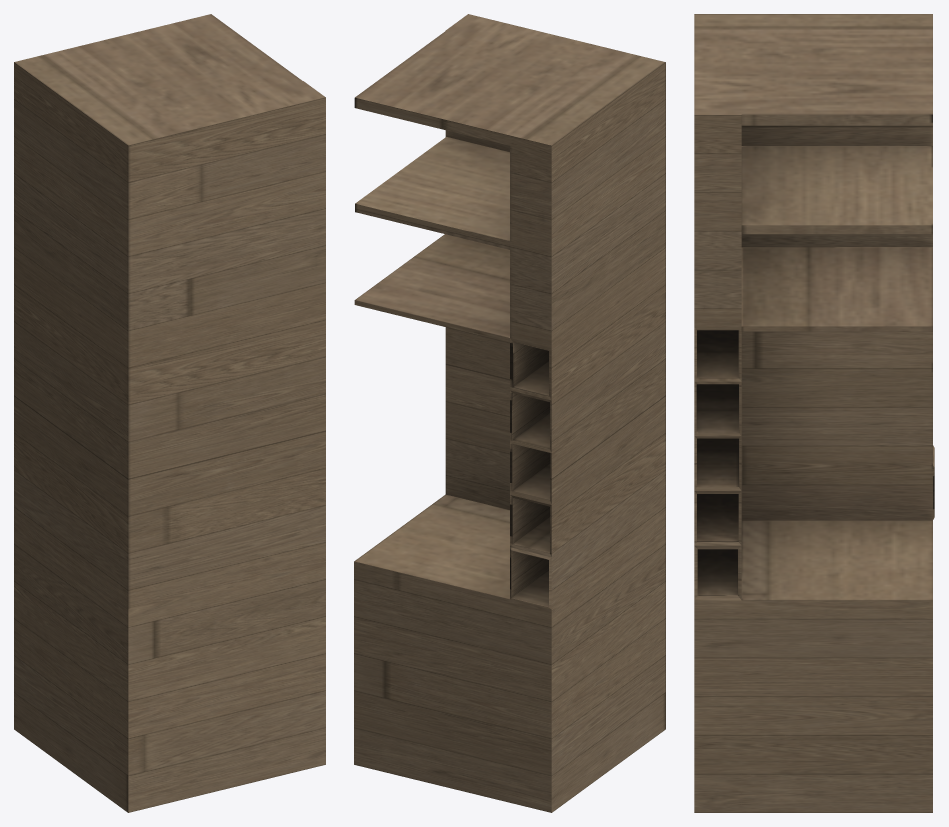
File: MuebleVino.fbx
The picture shows the model from 3 angles, left to right: view 1: azimuth 30°, elevation 25°; view 2: azimuth 150°, elevation 25°; view 3: azimuth 270°, elevation 25°; orthographic projection. The views are drawn at different scales.
Visible parts, largest first — view 1: RepisaVino; view 2: RepisaVino; view 3: RepisaVino.
Boxes of the visible parts, box(x1,y1,x2,y2) form: RepisaVino: box(14, 14, 325, 812); RepisaVino: box(354, 14, 665, 812); RepisaVino: box(694, 14, 934, 812).
Size of the model in its own units: 2.21 by 7.15 by 2.23.
